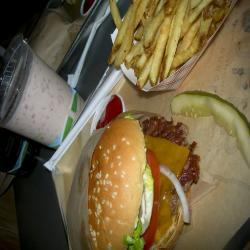burger: (63, 117, 213, 249)
fries: (112, 3, 217, 89)
ketchup: (90, 90, 130, 133)
